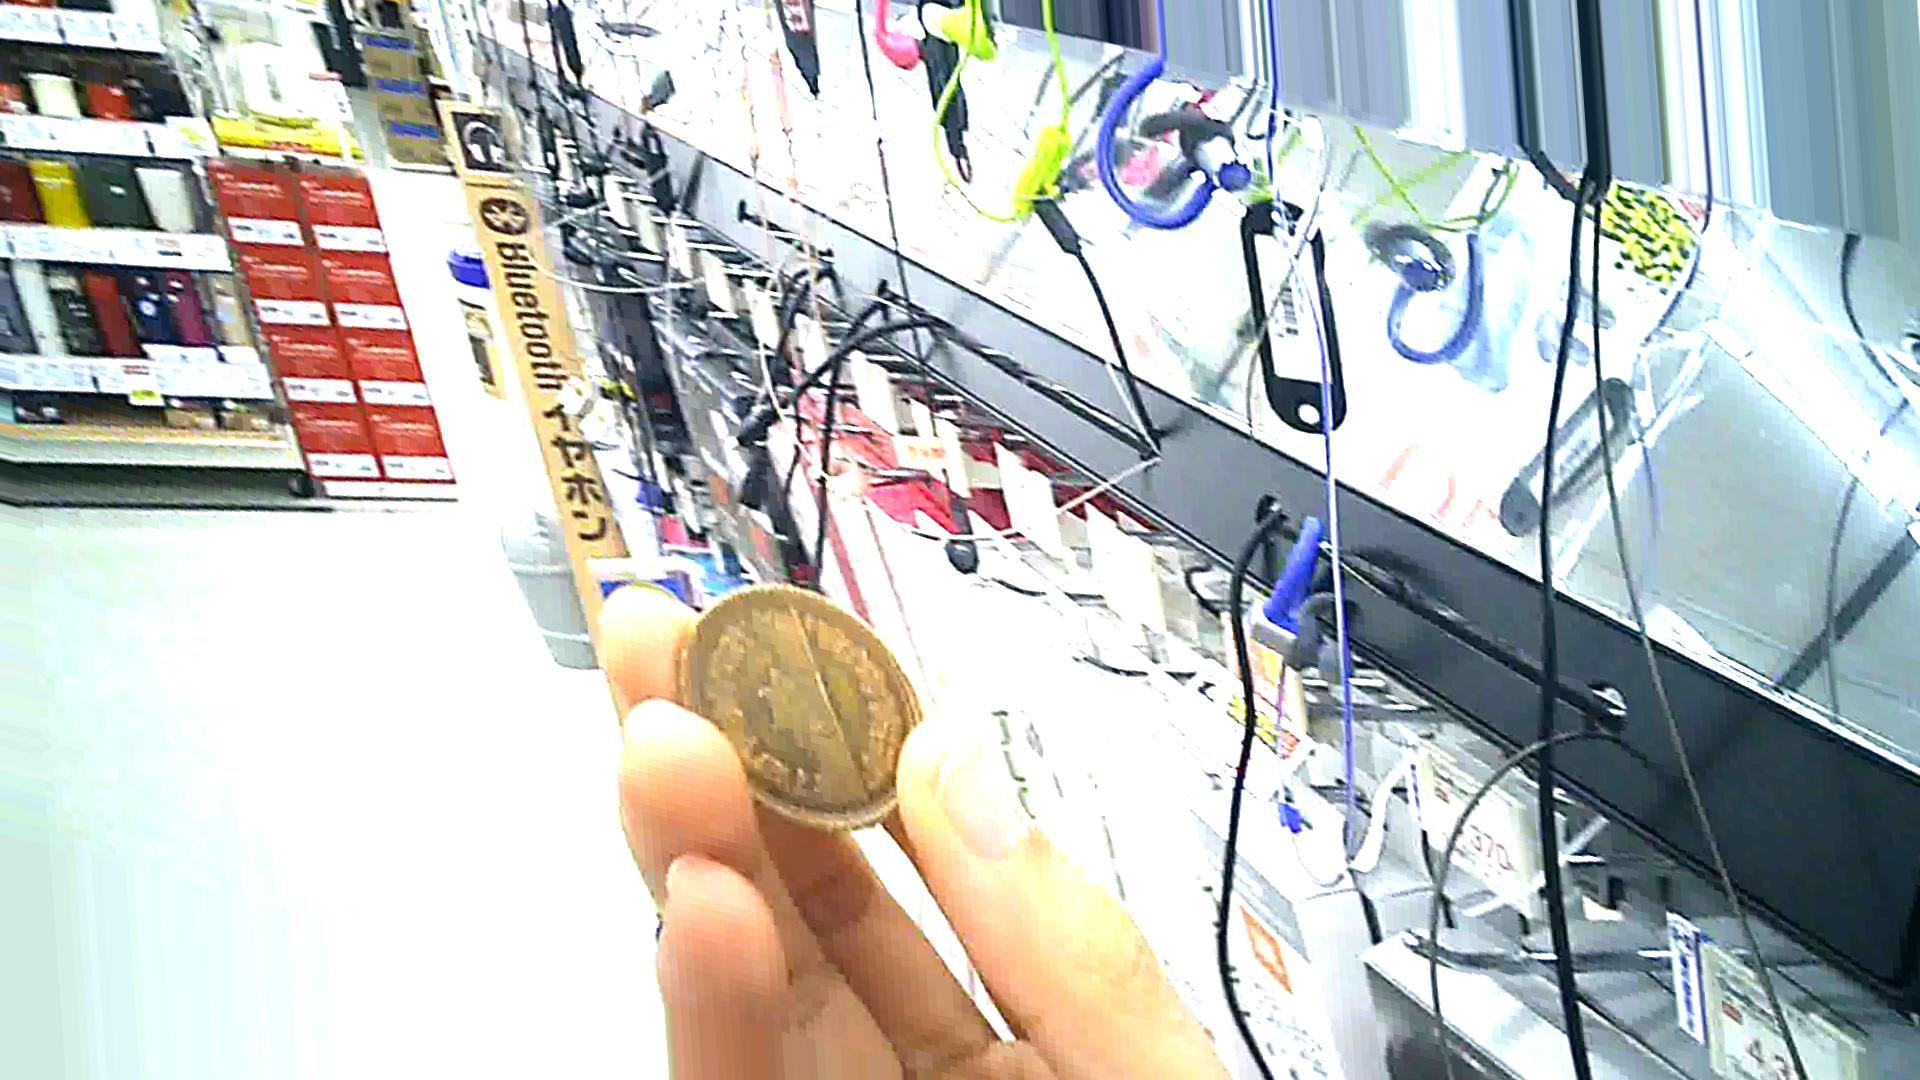10 Yen: (661, 574, 910, 827)
